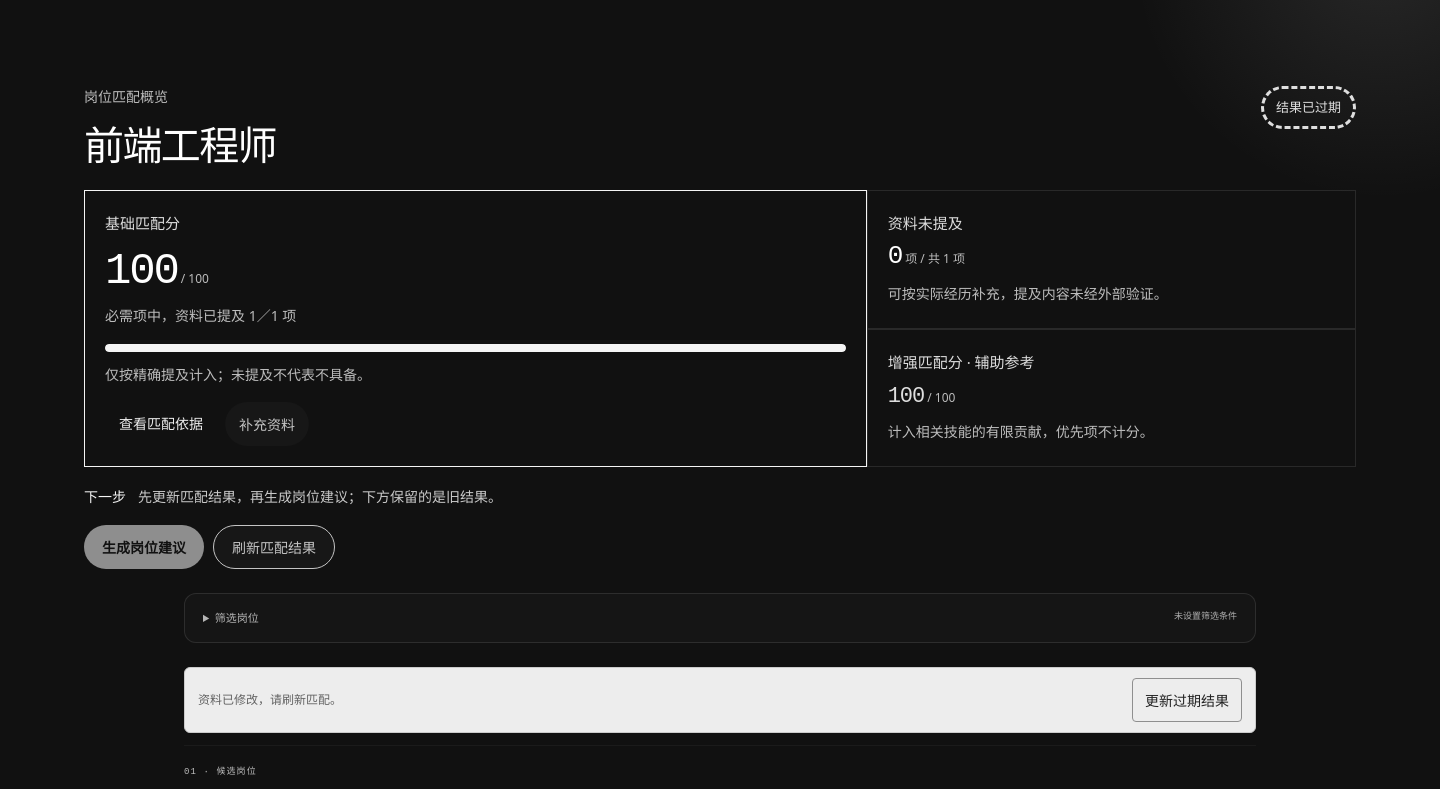
MatchesTab integration › refreshes stale recommendations through the in-page action after the profile revision changes
The image size is (1440, 789).
Expected: the heading "前端工程师" is shown, [84,120,276,170]
Expected: the text "资料已修改，请刷新匹配。" is shown, [198,690,342,709]
Click the button "更新过期结果" at (1187, 700), box [1132,678,1242,722]
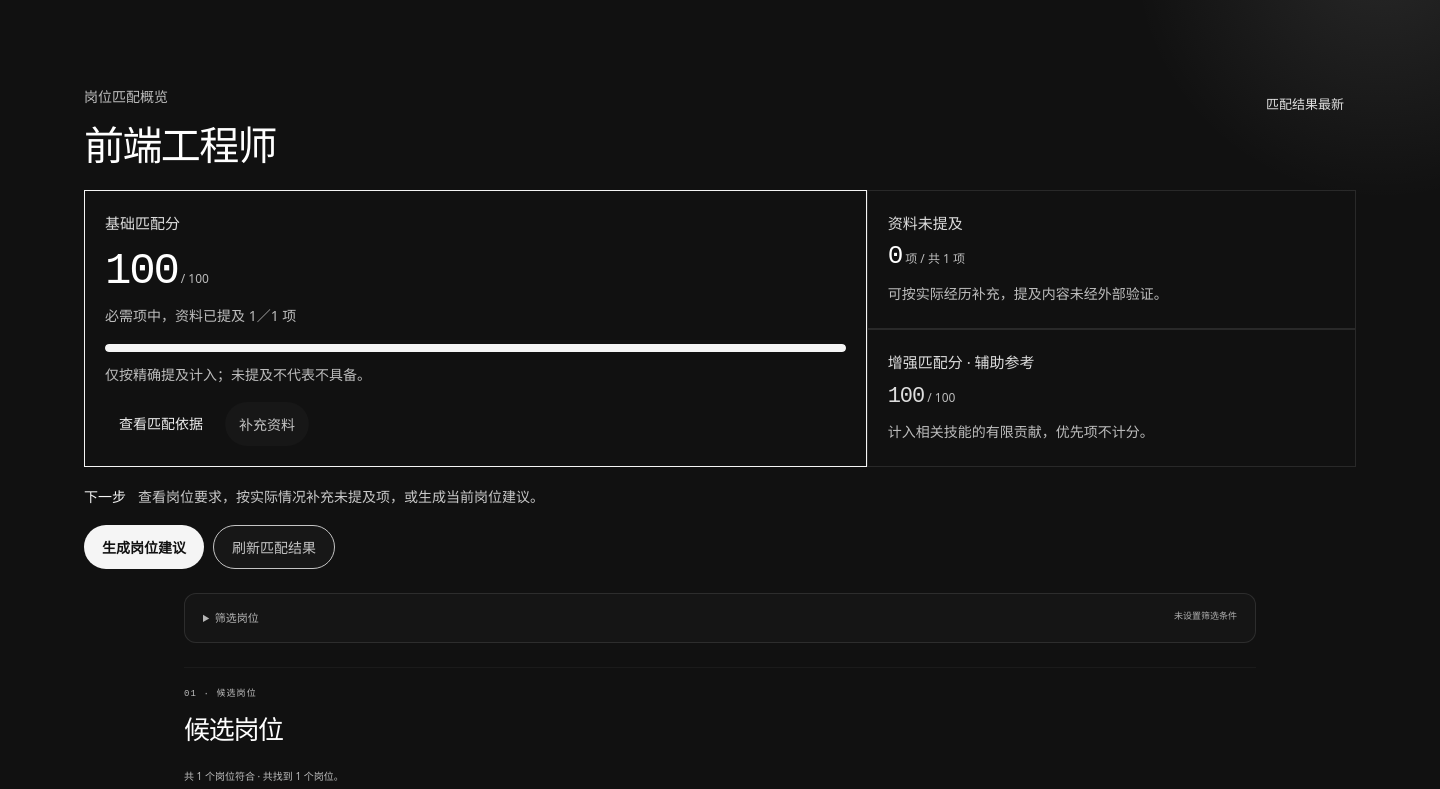
Expected: the button "更新过期结果" is gone
